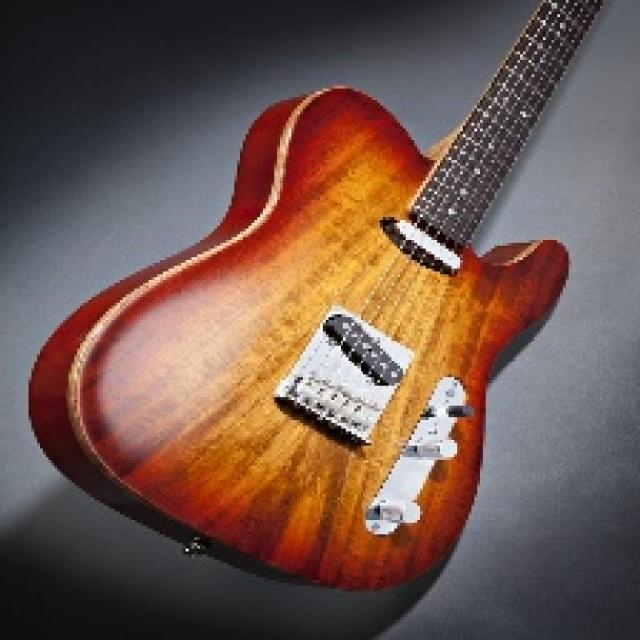guitar: (25, 0, 606, 594)
